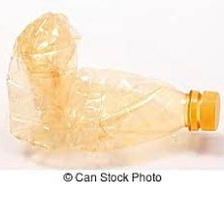bottle: (0, 12, 224, 171)
